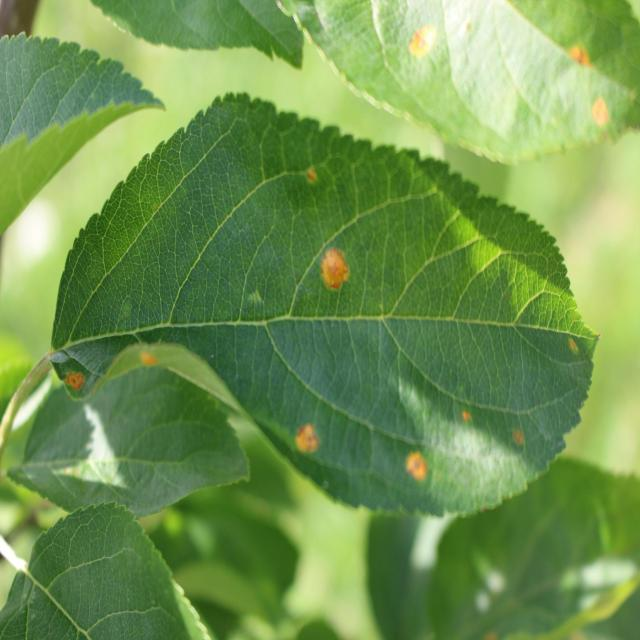Rust: (393, 13, 448, 80), (309, 238, 356, 304), (281, 405, 326, 470), (582, 81, 620, 150), (550, 38, 600, 84), (404, 433, 436, 502), (59, 360, 91, 418), (127, 339, 169, 379), (561, 325, 594, 366), (297, 149, 328, 190), (451, 397, 479, 434), (511, 421, 534, 452)
